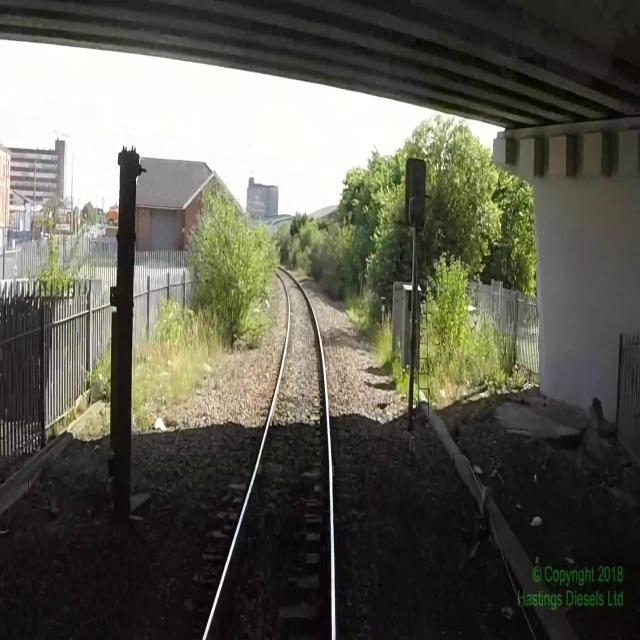rail-track: (206, 267, 330, 639)
